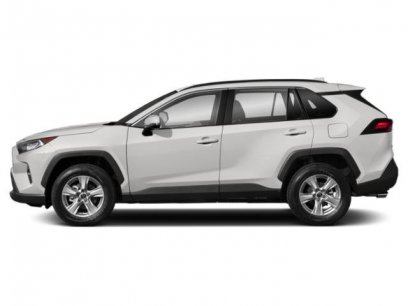Toyota RAV-4: (8, 76, 400, 226)
